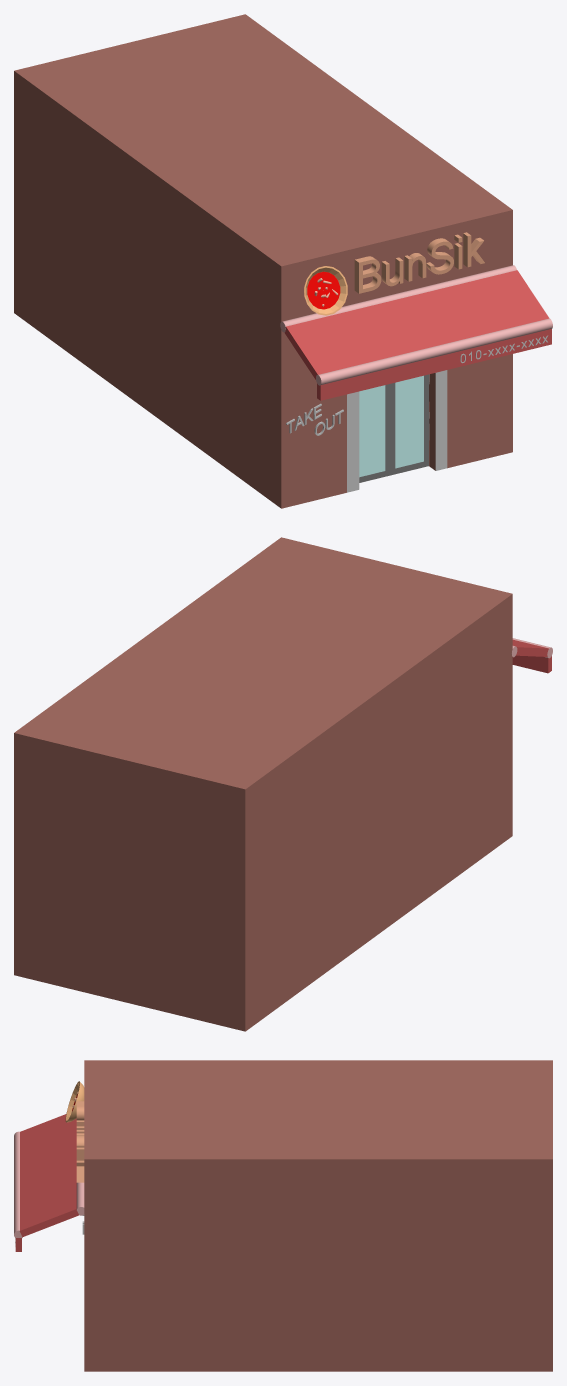
Rendered from BunSik.fbx.
3 renders of one model, top to bottom at view 1: azimuth 30°, elevation 25°; view 2: azimuth 150°, elevation 25°; view 3: azimuth 270°, elevation 25°, orthographic. The views are drawn at different scales.
Visible parts, largest first — view 1: Plane001, Tent, Right Door, BunSik, Left Door, tteokbokki; view 2: Plane001, Tent; view 3: Plane001, Tent, BunSik, tteokbokki.
Boxes of the visible parts, x1,y1,x2,y2 form: Plane001: (14, 14, 512, 508); Tent: (280, 265, 552, 400); Right Door: (390, 374, 428, 475); BunSik: (354, 232, 484, 293); Left Door: (359, 384, 390, 482); tteokbokki: (304, 266, 347, 315); Plane001: (14, 537, 512, 1031); Tent: (511, 638, 552, 673); Plane001: (84, 1060, 552, 1371); Tent: (14, 1114, 84, 1251); BunSik: (76, 1101, 84, 1182); tteokbokki: (65, 1081, 84, 1122).
Bounding box in the file's own units: 300 × 300 × 690.
